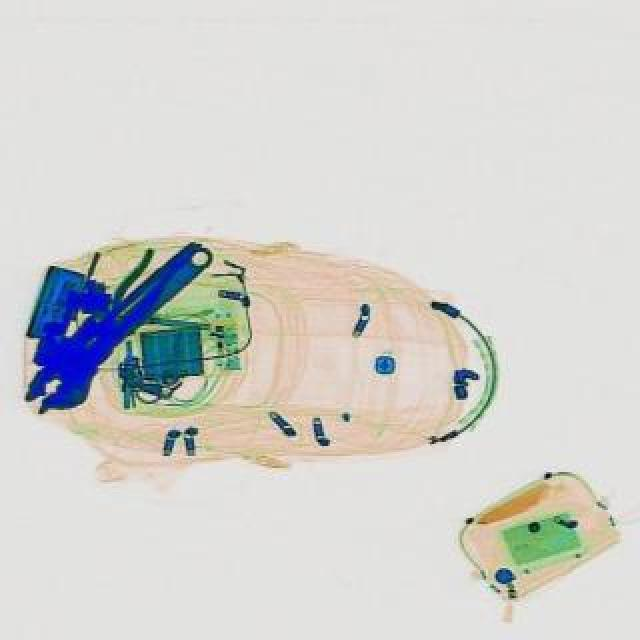scissors: (18, 224, 232, 420)
